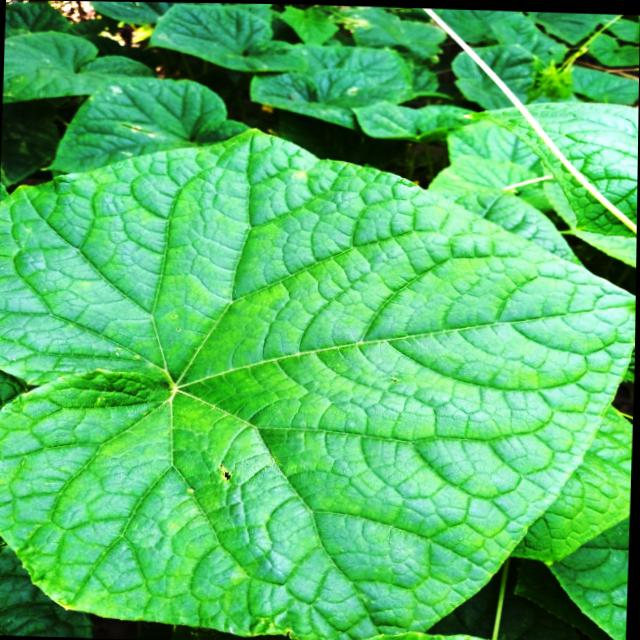Fresh-Leaf: (0, 127, 636, 640)
